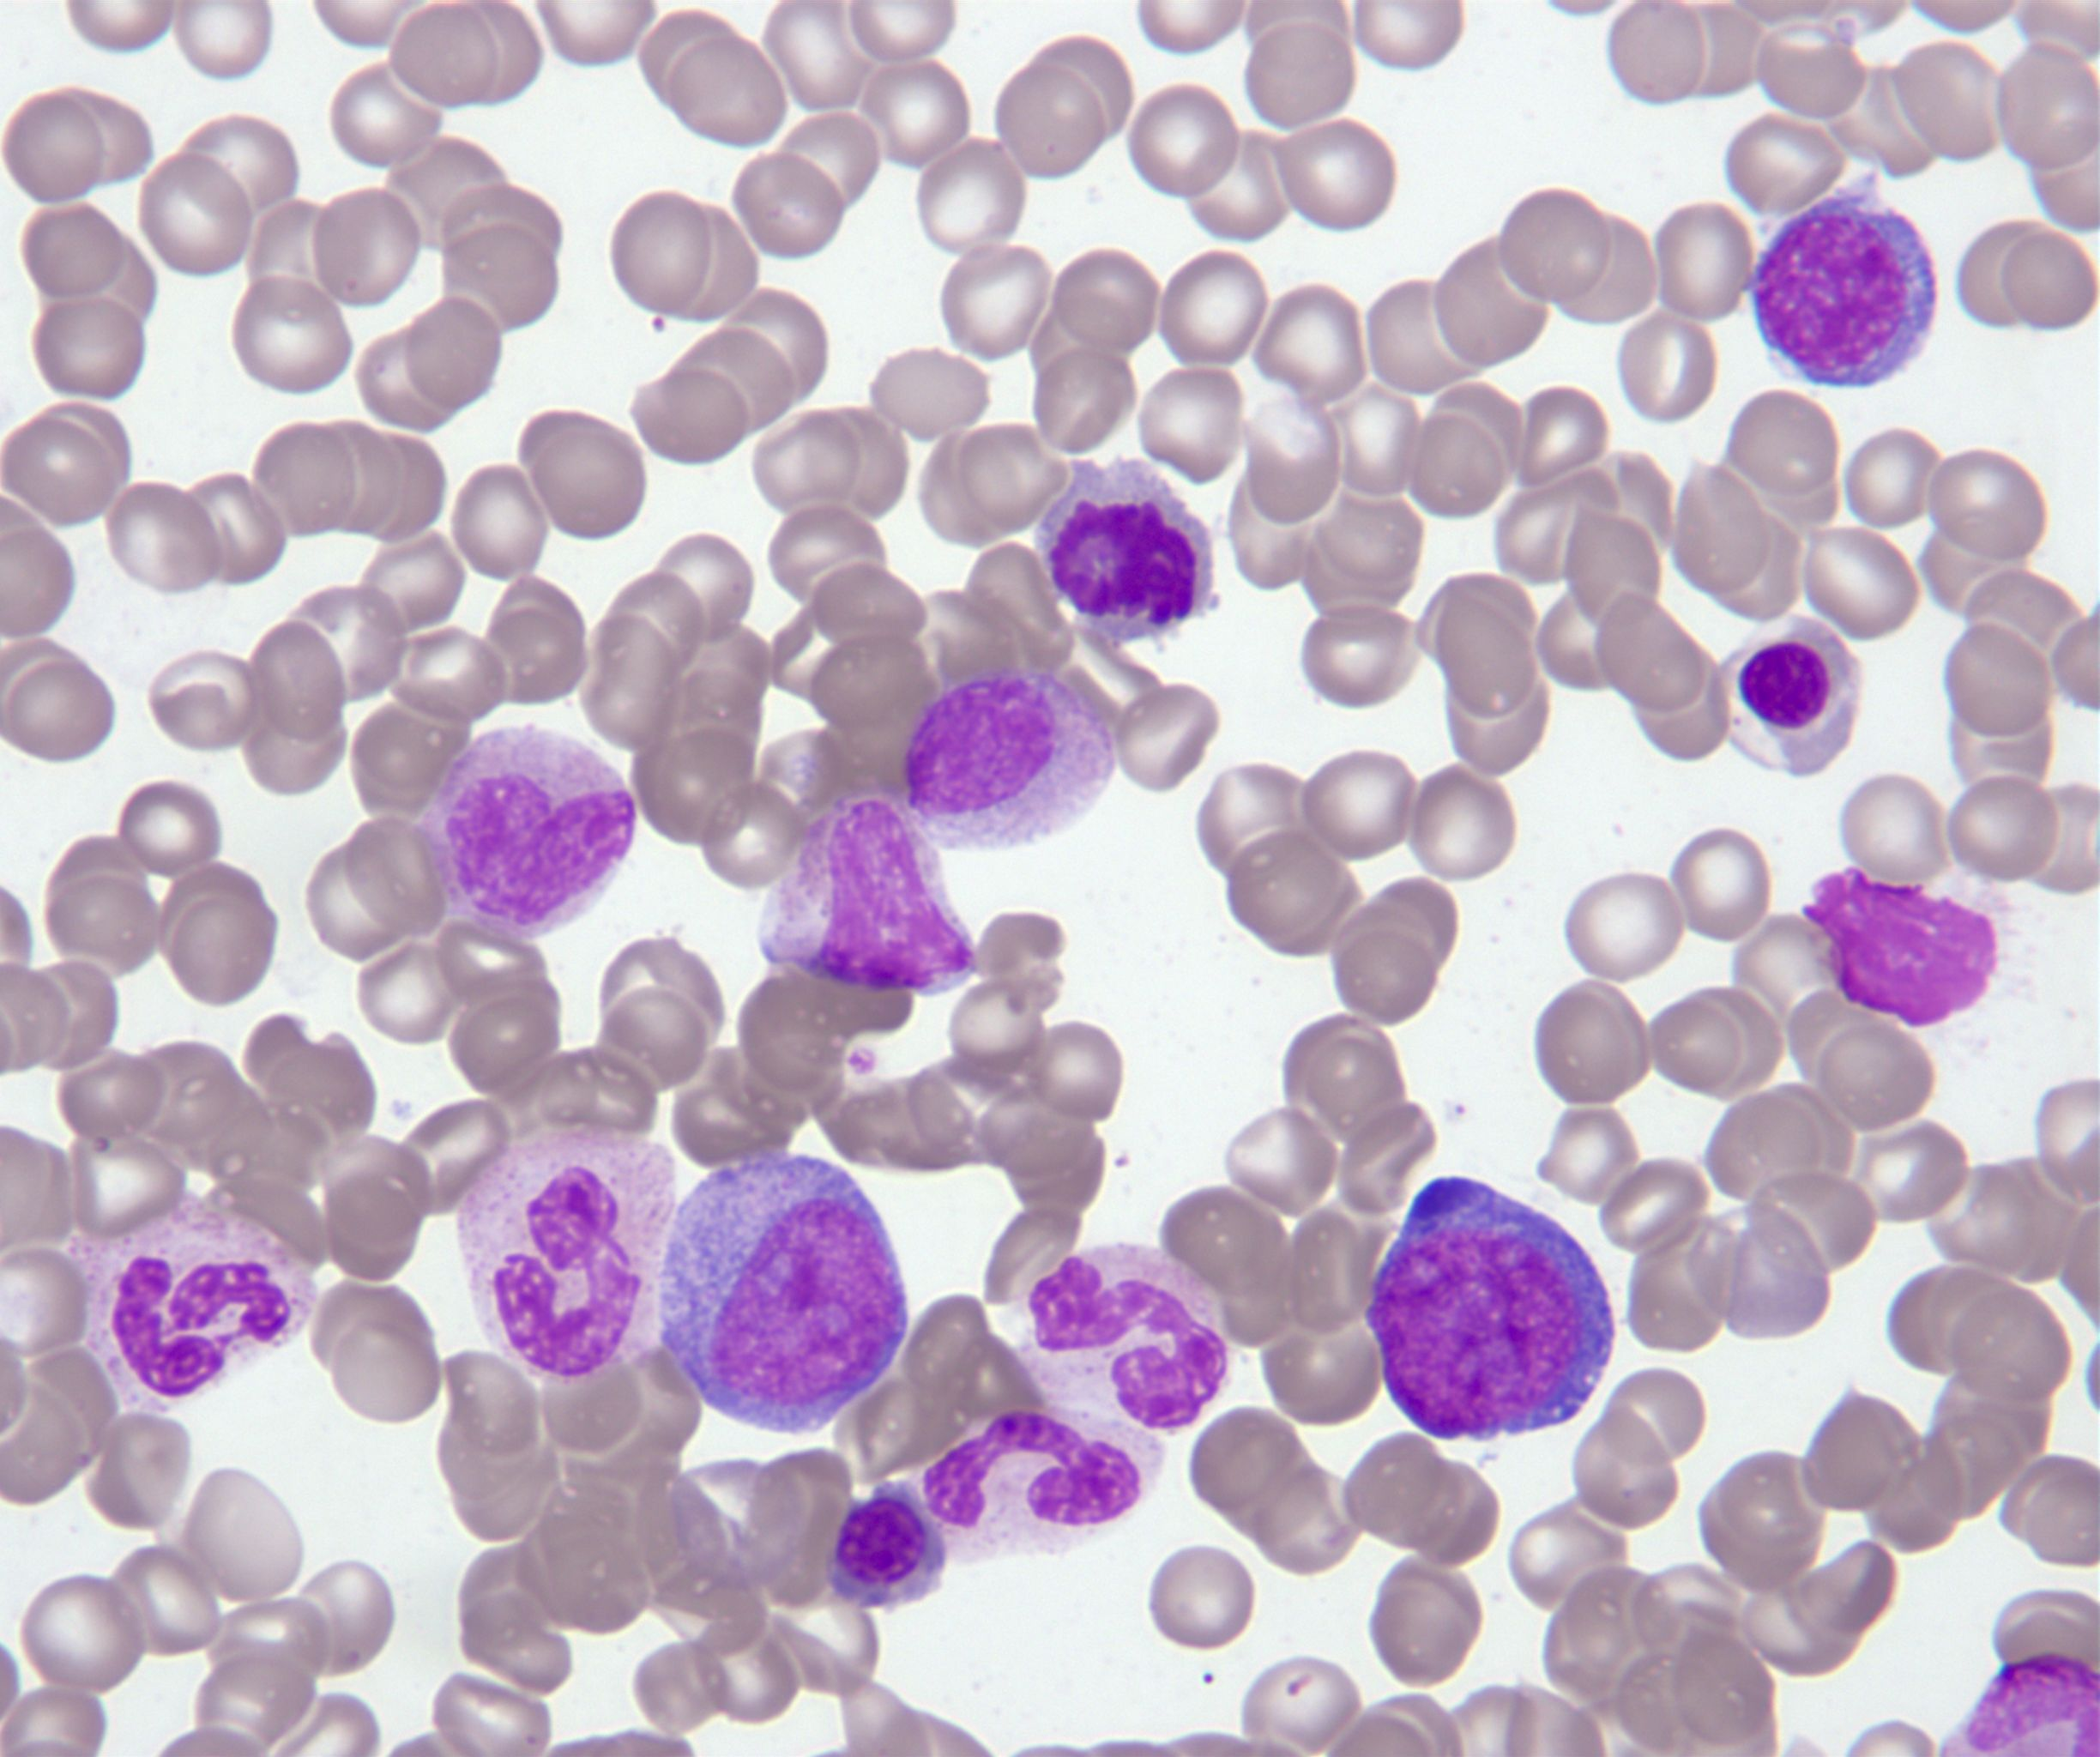2: (649, 1150, 916, 1441)
21: (1359, 1171, 1615, 1446)
23: (1741, 180, 1943, 394)
24: (1709, 612, 1866, 787), (820, 1478, 954, 1610)
3: (897, 663, 1120, 864)
4: (408, 724, 644, 946), (752, 790, 984, 1000)
5: (455, 1122, 682, 1392), (1008, 1237, 1235, 1434), (916, 1399, 1170, 1570)
6: (68, 1200, 316, 1422)
x: (1027, 448, 1219, 647)
